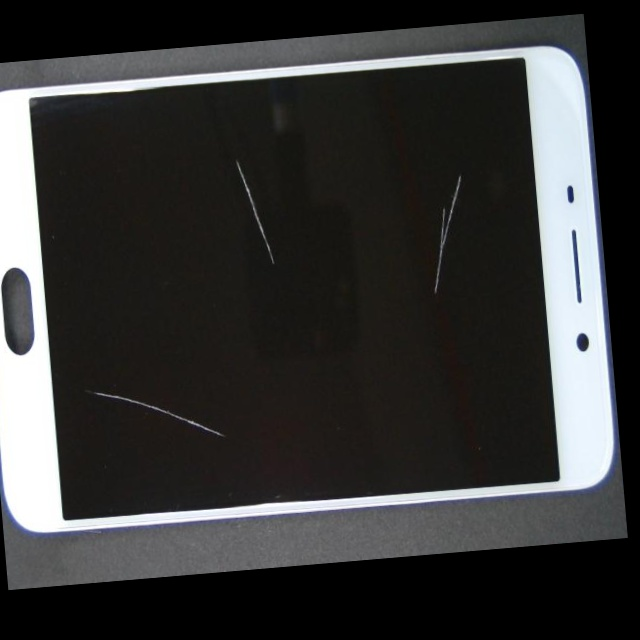scratch: (227, 92, 601, 251), (137, 186, 435, 358), (181, 272, 294, 573)
